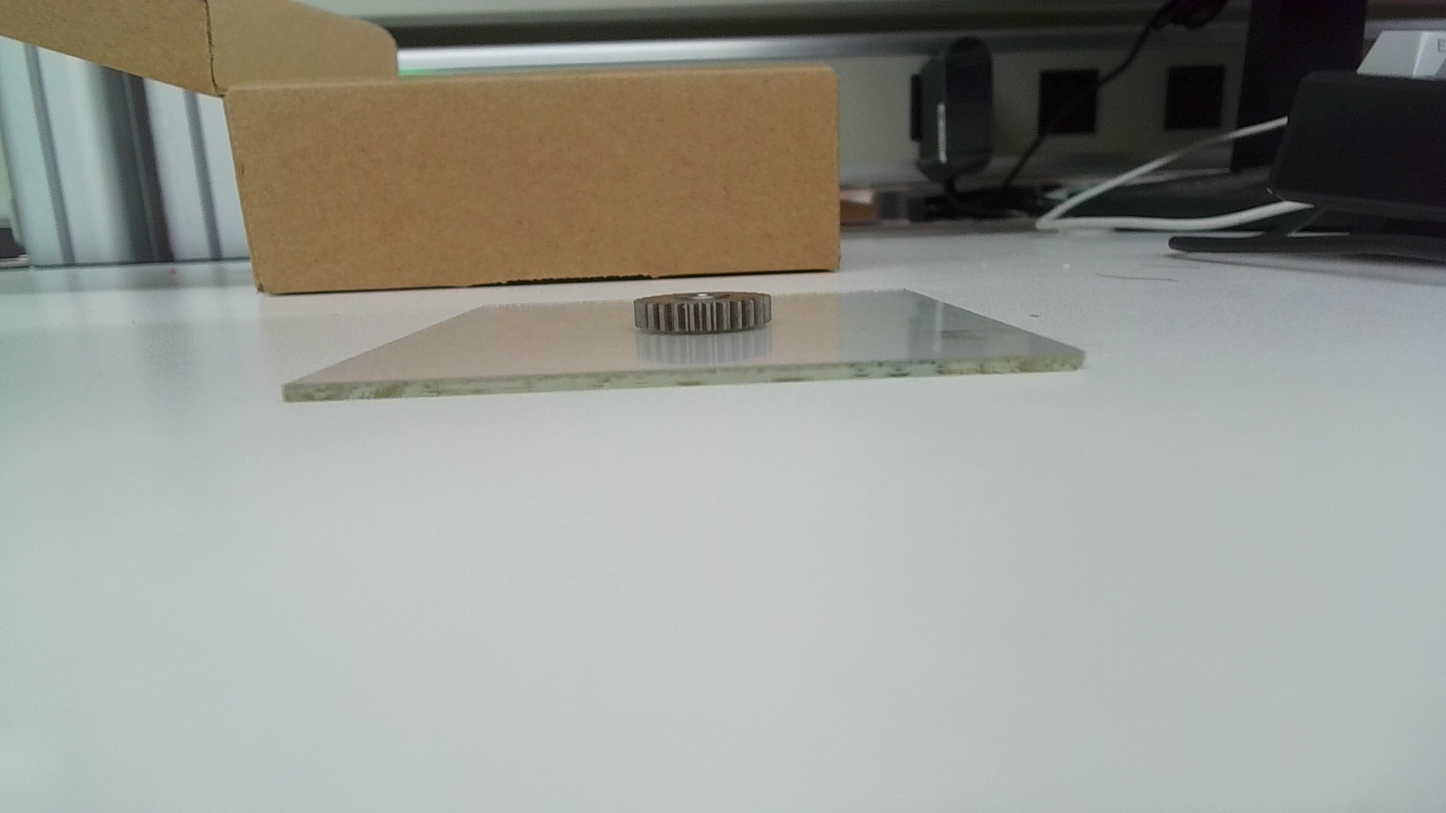gear: (631, 289, 776, 338)
